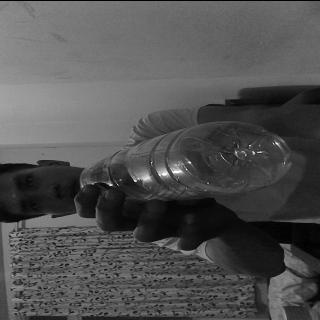plastic_bottles: (76, 121, 292, 203)
